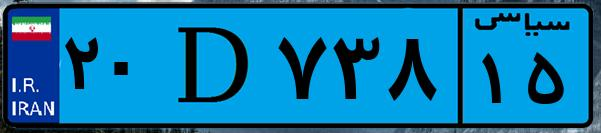0: (110, 28, 158, 98)
1: (475, 38, 525, 113)
2: (57, 26, 110, 100)
3: (330, 28, 385, 110)
5: (525, 38, 570, 115)
7: (270, 28, 330, 110)
8: (385, 28, 445, 110)
D: (158, 12, 270, 120)
